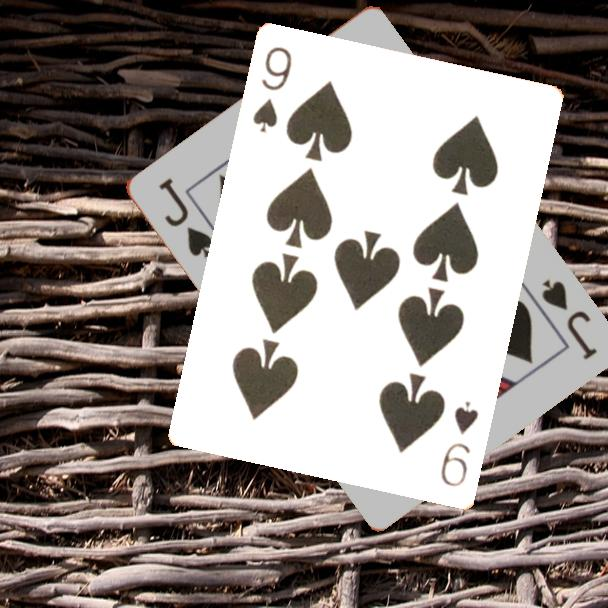s09: (249, 43, 296, 136), (437, 398, 482, 491)
s11: (537, 275, 600, 363), (154, 174, 215, 262)
